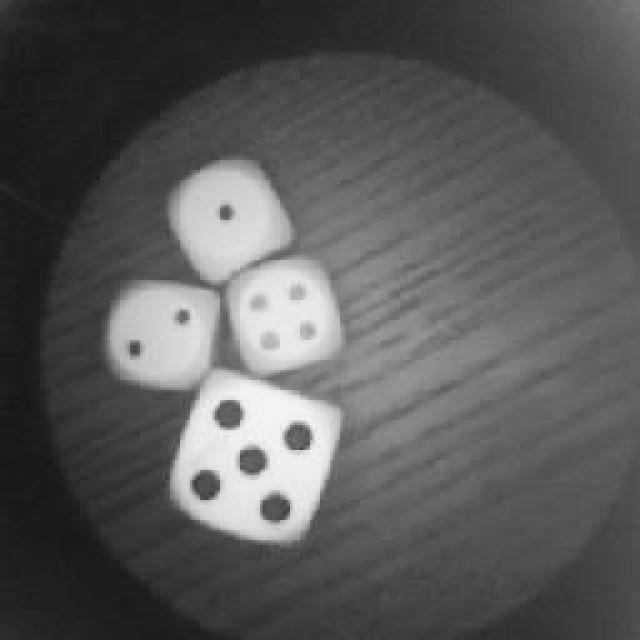dice_1: (167, 153, 285, 275)
dice_2: (107, 275, 225, 390)
dice_4: (238, 257, 342, 375)
dice_5: (165, 375, 335, 553)
